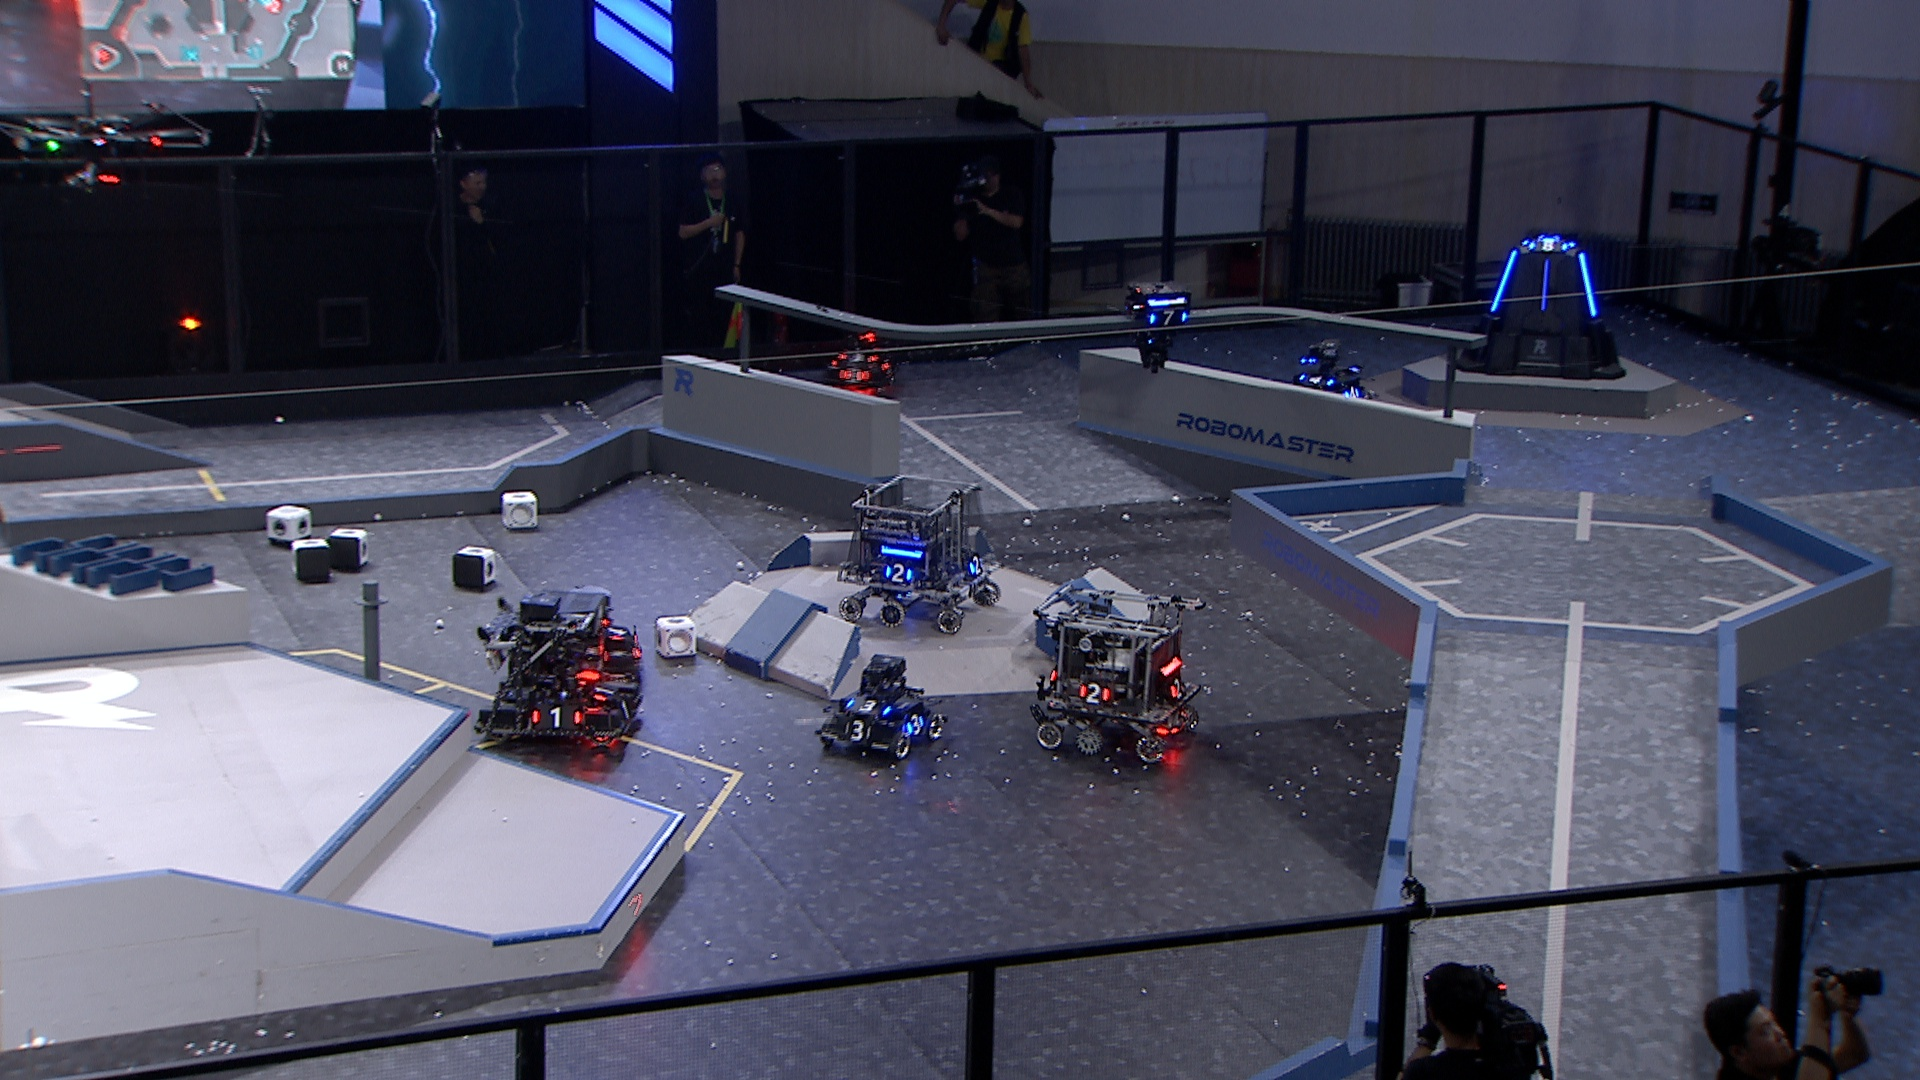armor: (1486, 247, 1523, 315), (1576, 247, 1600, 320), (531, 705, 584, 731), (845, 695, 895, 717), (1145, 306, 1188, 328), (1538, 258, 1555, 314), (1077, 680, 1112, 707), (1528, 235, 1571, 255), (841, 719, 873, 744), (839, 365, 874, 386), (884, 560, 913, 585), (591, 680, 621, 703), (615, 694, 636, 725), (1298, 371, 1335, 386), (903, 712, 928, 735), (1168, 676, 1188, 700), (607, 621, 629, 640), (967, 551, 982, 575), (1342, 384, 1362, 400)
base: (1456, 229, 1629, 382)
car: (1027, 578, 1207, 764), (472, 585, 644, 760), (835, 472, 1011, 637), (814, 647, 953, 765), (541, 585, 646, 687), (1287, 339, 1382, 413), (820, 327, 902, 400)
watcher: (1122, 280, 1192, 376)
